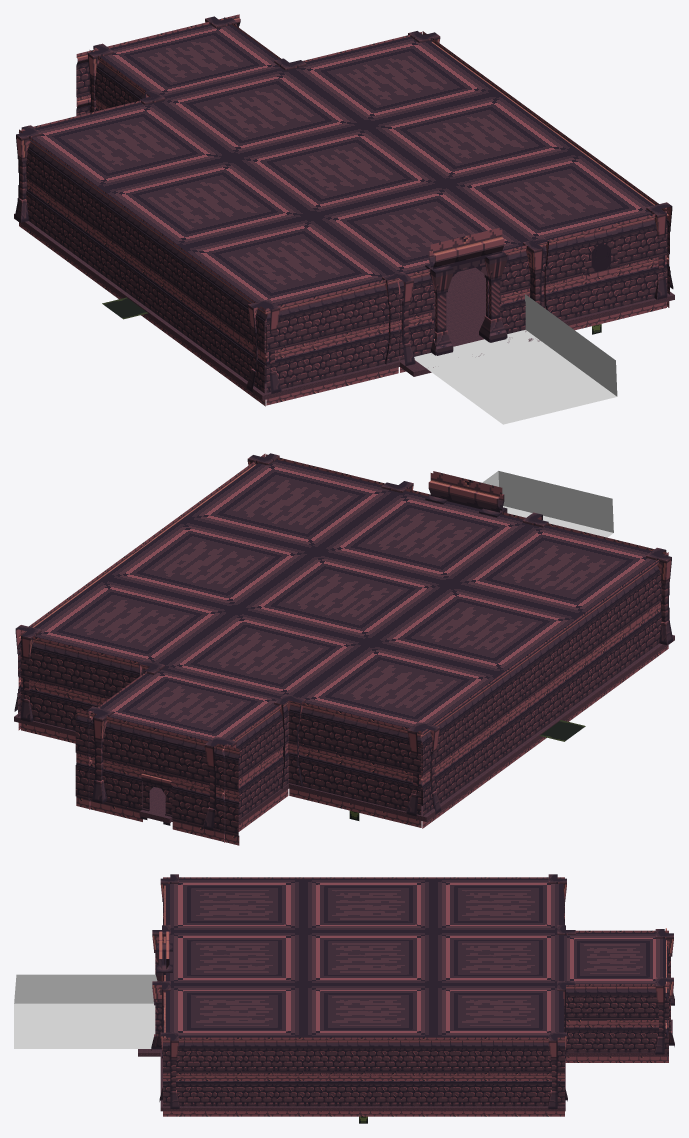
Rendered from FinalFixDungeon.glb.
The picture shows the model from 3 angles, top to bottom: view 1: azimuth 30°, elevation 25°; view 2: azimuth 150°, elevation 25°; view 3: azimuth 270°, elevation 25°; orthographic projection. The views are drawn at different scales.
Parts seen in each view (by area): view 1: MainRoom, EndRoomColliosn.001; view 2: MainRoom, EndRoomColliosn.001; view 3: MainRoom, EndRoomColliosn.001.
Boxes of the visible parts, left/top/right/bottom form: MainRoom: left=14, top=14, right=674, bottom=406; EndRoomColliosn.001: left=414, top=294, right=617, bottom=424; MainRoom: left=14, top=453, right=674, bottom=845; EndRoomColliosn.001: left=482, top=471, right=613, bottom=537; MainRoom: left=138, top=874, right=674, bottom=1123; EndRoomColliosn.001: left=14, top=974, right=157, bottom=1048.
Size of what is drawn, in the model's own units: 148 by 42.25 by 235.
Materials: 10 (10 with a texture image).
